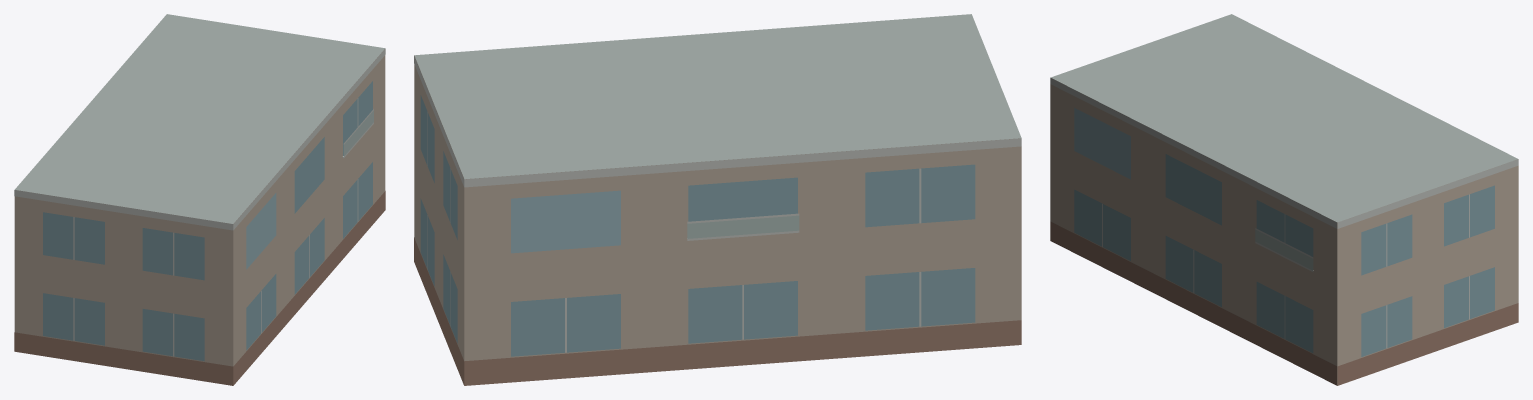
Rendered from survey-upis-32774240.glb.
3 views of the same model, side by side, from view 1: azimuth 30°, elevation 25°; view 2: azimuth 150°, elevation 25°; view 3: azimuth 270°, elevation 25° (orthographic). The views are drawn at different scales.
Parts seen in each view (by area): view 1: survey-upis-32774240.tmp; view 2: survey-upis-32774240.tmp; view 3: survey-upis-32774240.tmp.
Part boxes in pixels (<box>): survey-upis-32774240.tmp: <box>14,14,385,385</box>; survey-upis-32774240.tmp: <box>414,14,1021,385</box>; survey-upis-32774240.tmp: <box>1050,14,1518,385</box>.
Bounding box in the file's own units: 16.71 × 6.1 × 15.85.
